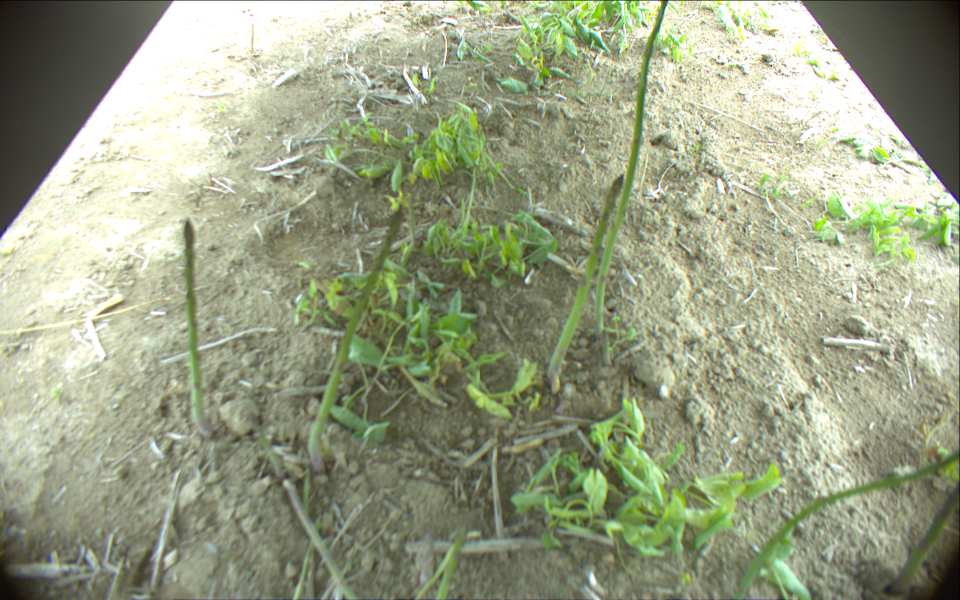aspa: (733, 445, 960, 599), (305, 205, 405, 480), (596, 1, 668, 338), (541, 171, 625, 391), (883, 474, 960, 596), (183, 218, 210, 435), (435, 531, 467, 600)
